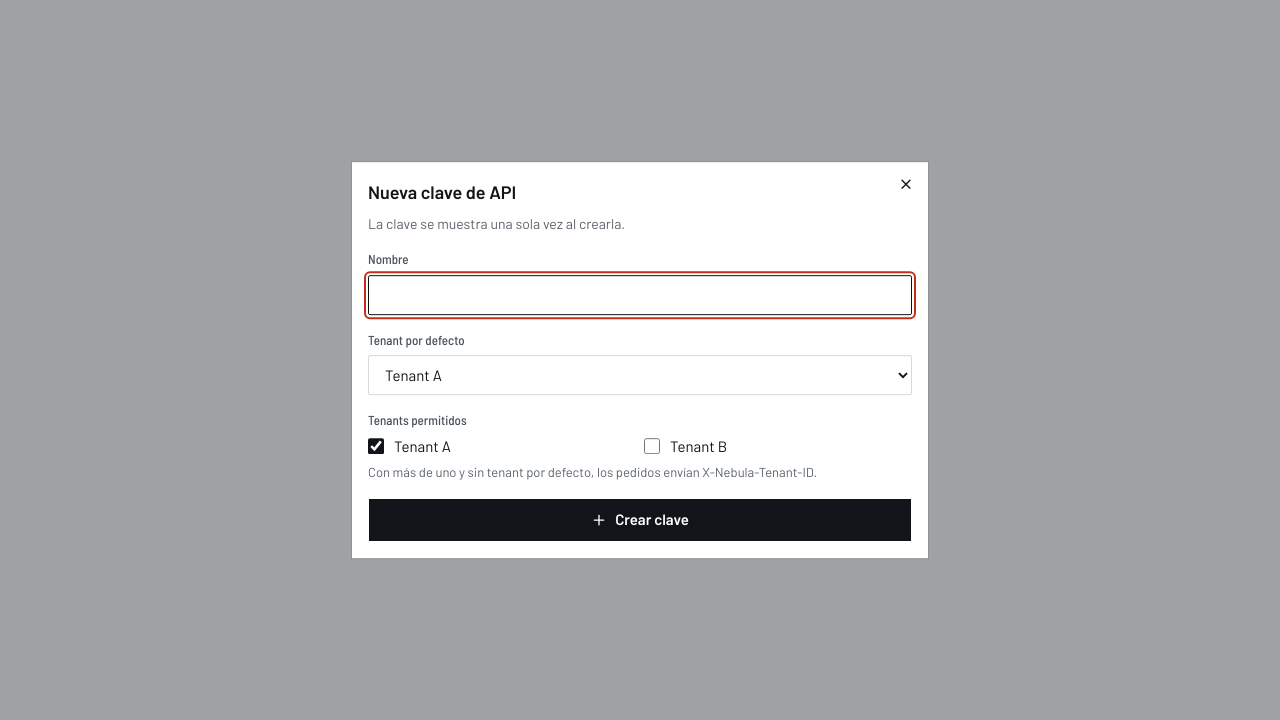
Test: create-api-key-dialog › requires at least one allowed tenant
Type "Test key" into the field labelled "Nombre" at (640, 295), box [368,275,912,315]
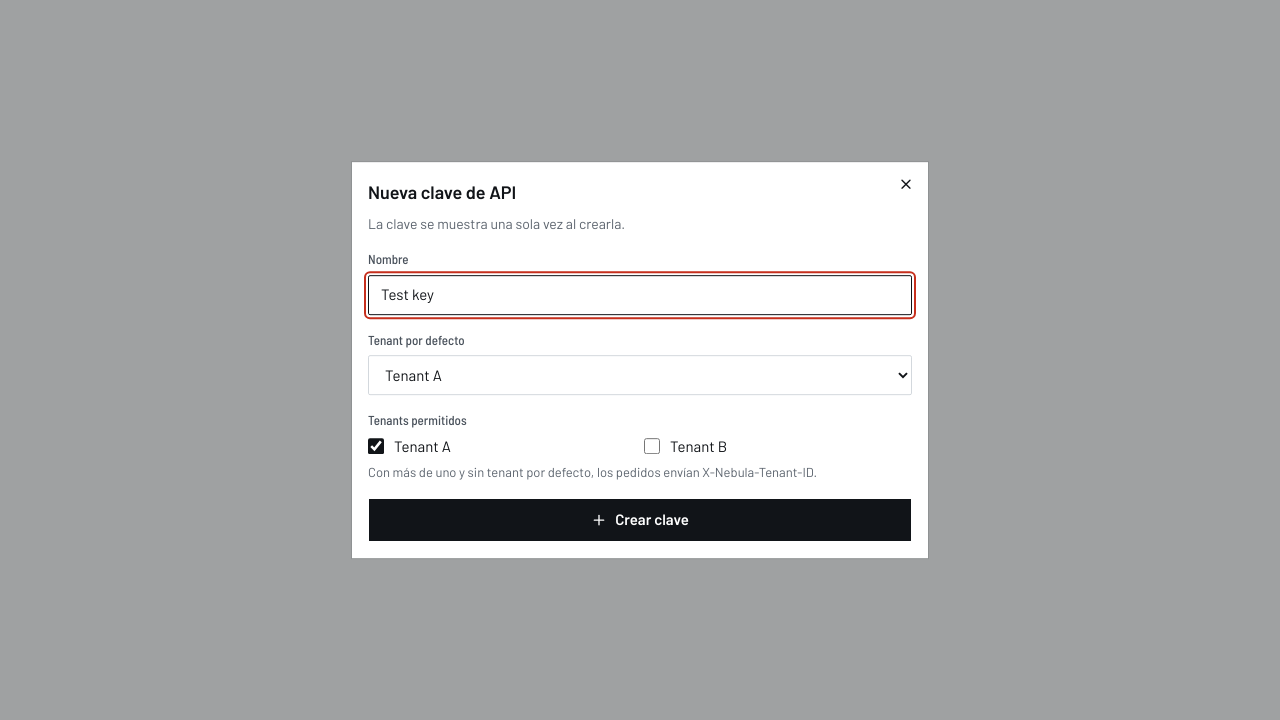
Click the checkbox labelled "Tenant A" at (376, 447), box [368,439,384,455]
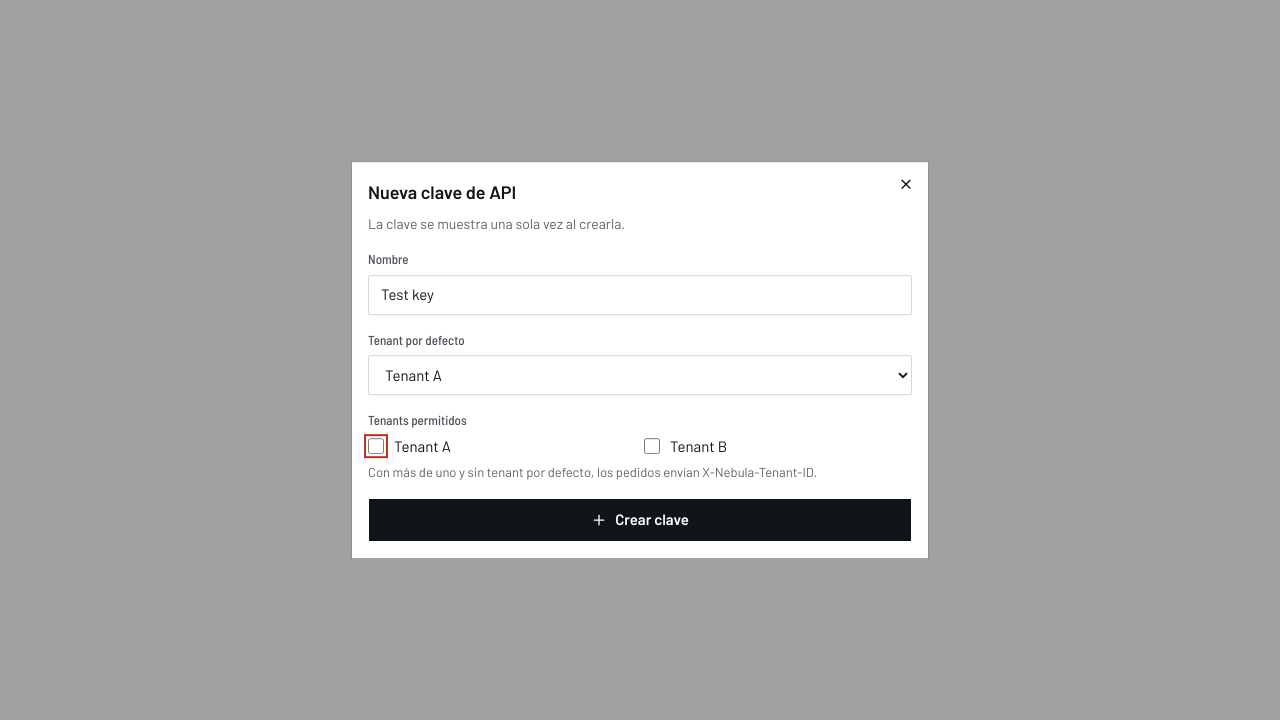
Click the button "Crear clave" at (640, 520), box [368,498,912,542]
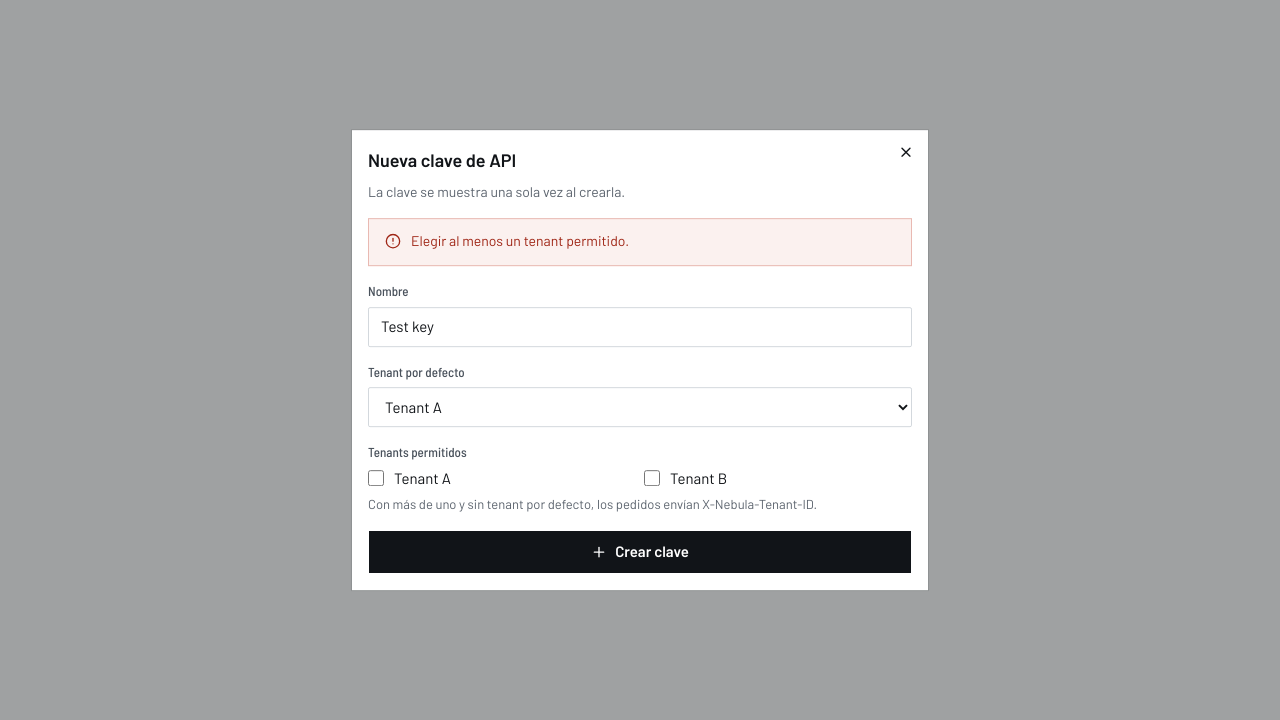
Check: the text "Elegir al menos un tenant permitido." is shown, box [411,232,629,249]
